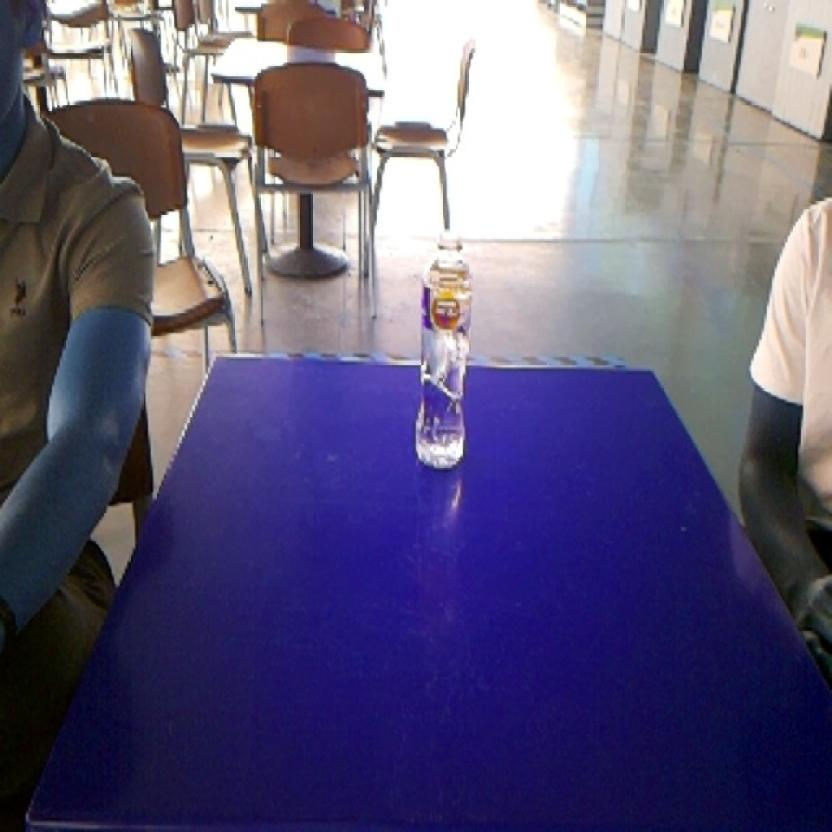no_cap: (409, 224, 483, 477)
